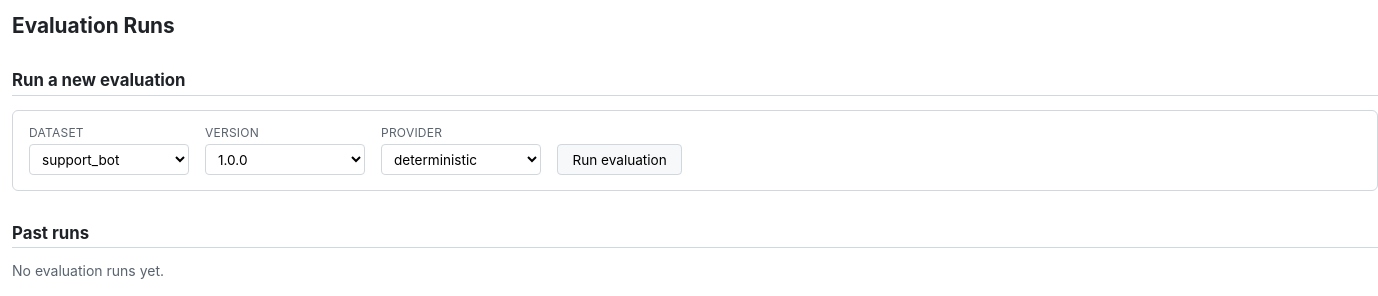
RunsList › new evaluation form › disables the submit button while the run is in flight
The width and height of the screenshot is (1378, 296).
Check: the dropdown labelled "Dataset" shows "support_bot", box [29, 144, 189, 175]
Click the button "Run evaluation" at (620, 160), box [557, 144, 682, 175]
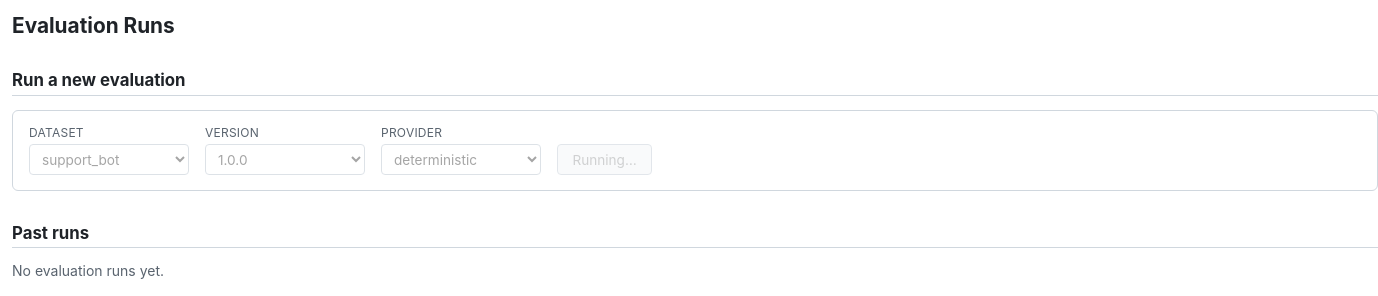
Check: the button "Running…" is disabled, box [557, 144, 652, 175]
